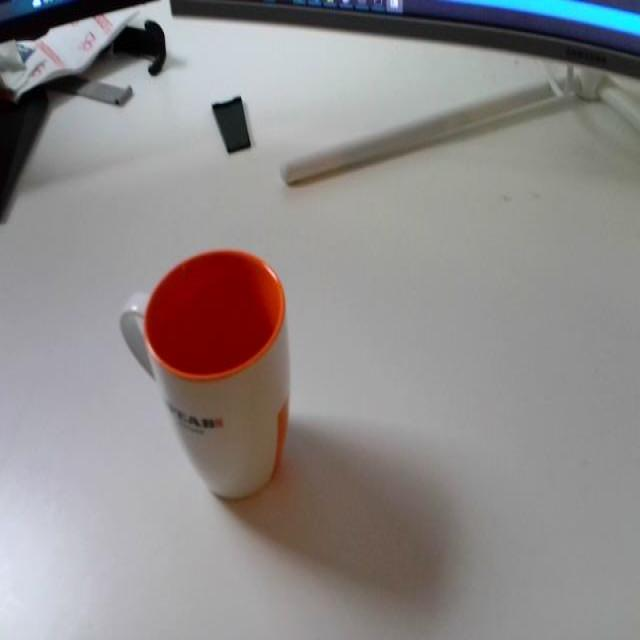cup: (107, 225, 315, 518)
